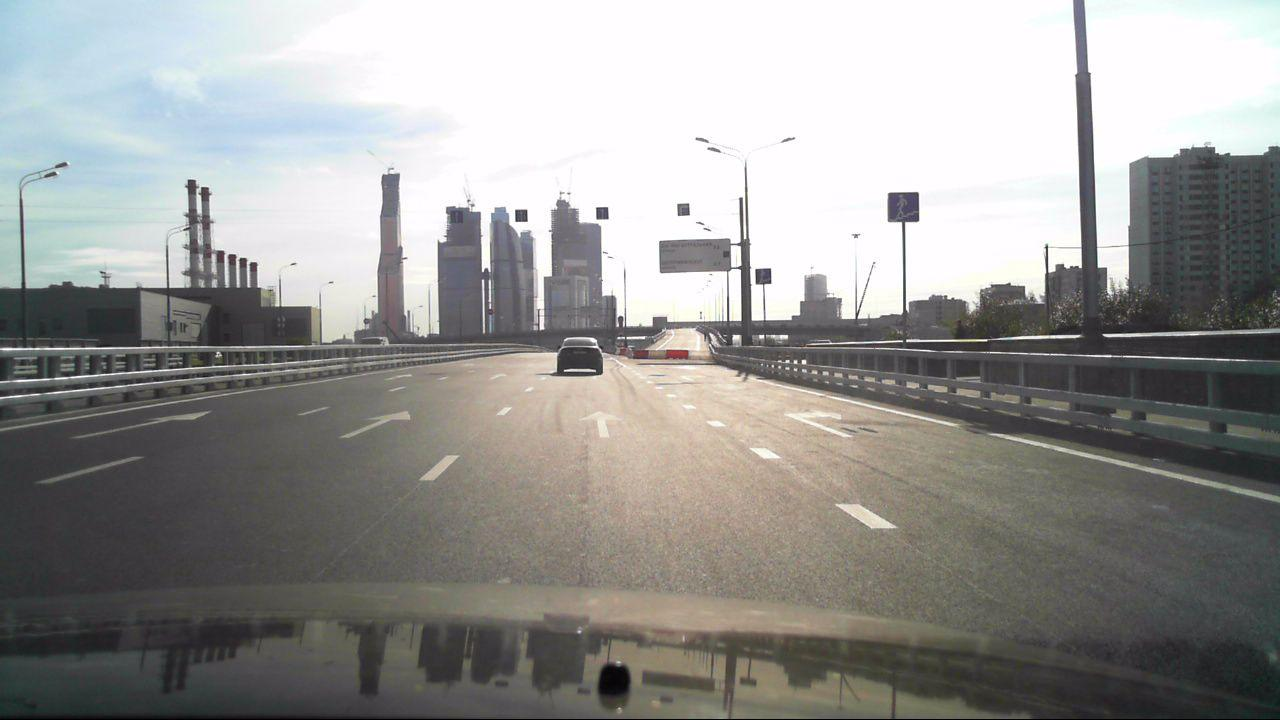5_15_2: (595, 206, 610, 221), (451, 210, 464, 223), (515, 210, 528, 223), (677, 203, 690, 216)
6_6: (887, 190, 918, 222), (754, 268, 772, 286)
6_9_1: (659, 240, 731, 271)
